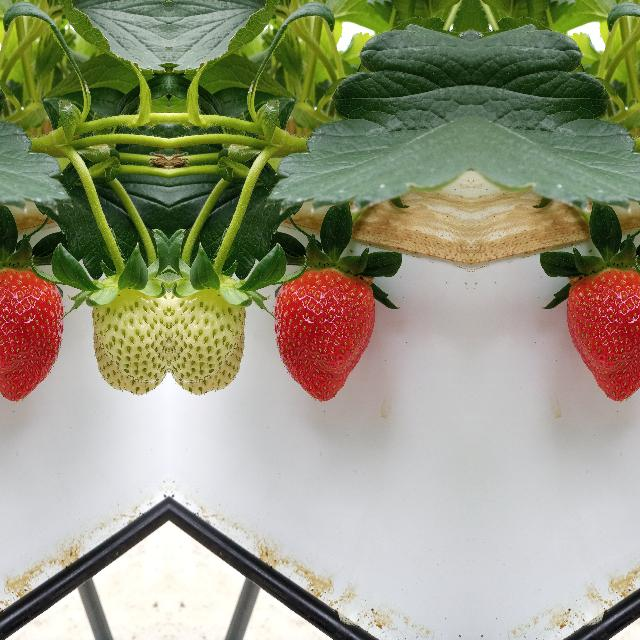Health_100: (272, 268, 374, 402), (566, 268, 640, 402), (0, 268, 64, 402)
Health_25: (170, 280, 248, 404), (88, 280, 166, 404)
